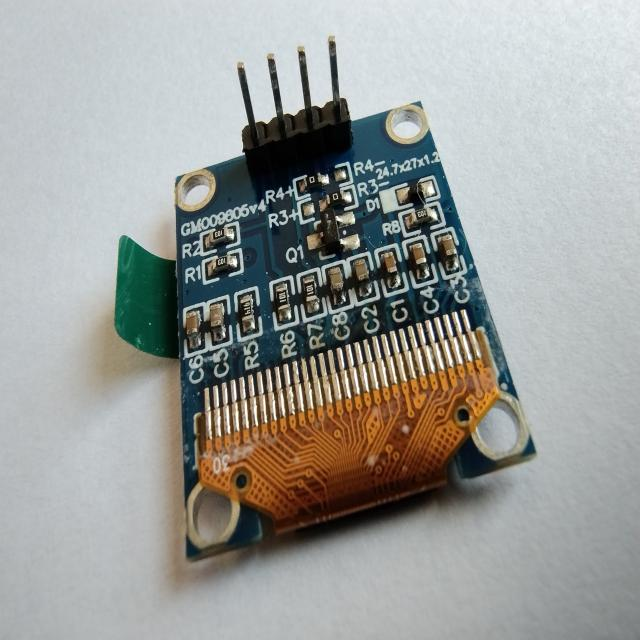oled: (132, 29, 564, 569)
